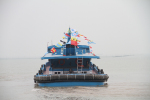otherboat: (30, 26, 110, 88)
